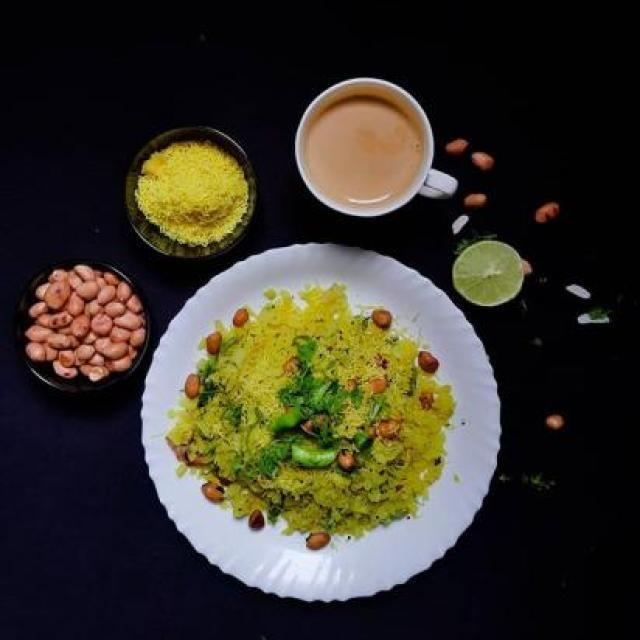poha: (186, 316, 452, 534)
